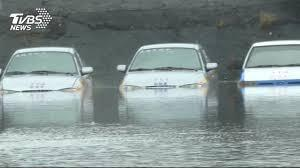water: (0, 0, 299, 167), (0, 35, 26, 75)
